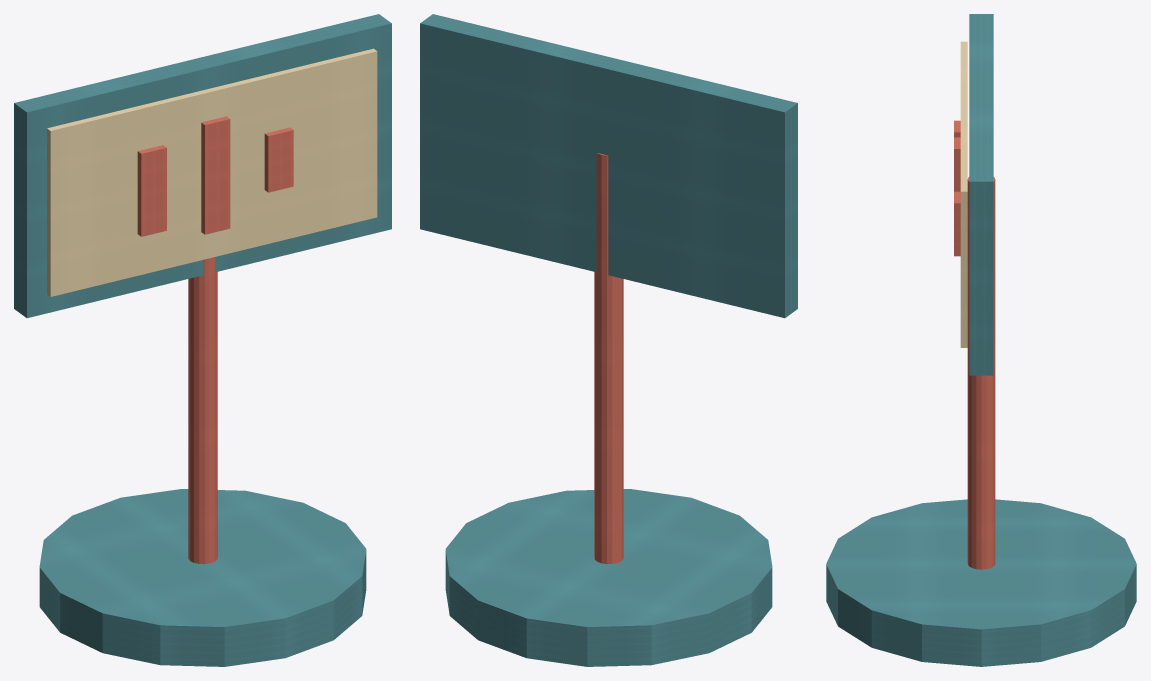
Rendered from atlas100-s073-a11.glb.
3 views of the same model, side by side, from view 1: azimuth 30°, elevation 25°; view 2: azimuth 150°, elevation 25°; view 3: azimuth 270°, elevation 25° (orthographic). The views are drawn at different scales.
Parts seen in each view (by area): view 1: atlas100-s073-a11:part-003, atlas100-s073-a11:part-000, atlas100-s073-a11:part-002, atlas100-s073-a11:part-001, atlas100-s073-a11:part-005, atlas100-s073-a11:part-004, atlas100-s073-a11:part-006; view 2: atlas100-s073-a11:part-002, atlas100-s073-a11:part-000, atlas100-s073-a11:part-001; view 3: atlas100-s073-a11:part-000, atlas100-s073-a11:part-002, atlas100-s073-a11:part-001, atlas100-s073-a11:part-003, atlas100-s073-a11:part-006.
Boxes of the visible parts, x1=… form: atlas100-s073-a11:part-003: x1=47, y1=48, x2=377, y2=296; atlas100-s073-a11:part-000: x1=39, y1=489, x2=366, y2=666; atlas100-s073-a11:part-002: x1=14, y1=14, x2=391, y2=318; atlas100-s073-a11:part-001: x1=188, y1=257, x2=217, y2=564; atlas100-s073-a11:part-005: x1=201, y1=116, x2=230, y2=234; atlas100-s073-a11:part-004: x1=137, y1=145, x2=166, y2=236; atlas100-s073-a11:part-006: x1=264, y1=127, x2=293, y2=192; atlas100-s073-a11:part-002: x1=420, y1=14, x2=797, y2=318; atlas100-s073-a11:part-000: x1=445, y1=489, x2=772, y2=666; atlas100-s073-a11:part-001: x1=594, y1=153, x2=623, y2=564; atlas100-s073-a11:part-000: x1=826, y1=499, x2=1136, y2=666; atlas100-s073-a11:part-002: x1=969, y1=14, x2=993, y2=375; atlas100-s073-a11:part-001: x1=967, y1=177, x2=995, y2=569; atlas100-s073-a11:part-003: x1=960, y1=41, x2=967, y2=347; atlas100-s073-a11:part-006: x1=954, y1=191, x2=960, y2=256.
Size of the model in its own units: 1.15 by 1.61 by 0.9.
Materials: 3 (3 with a texture image).
